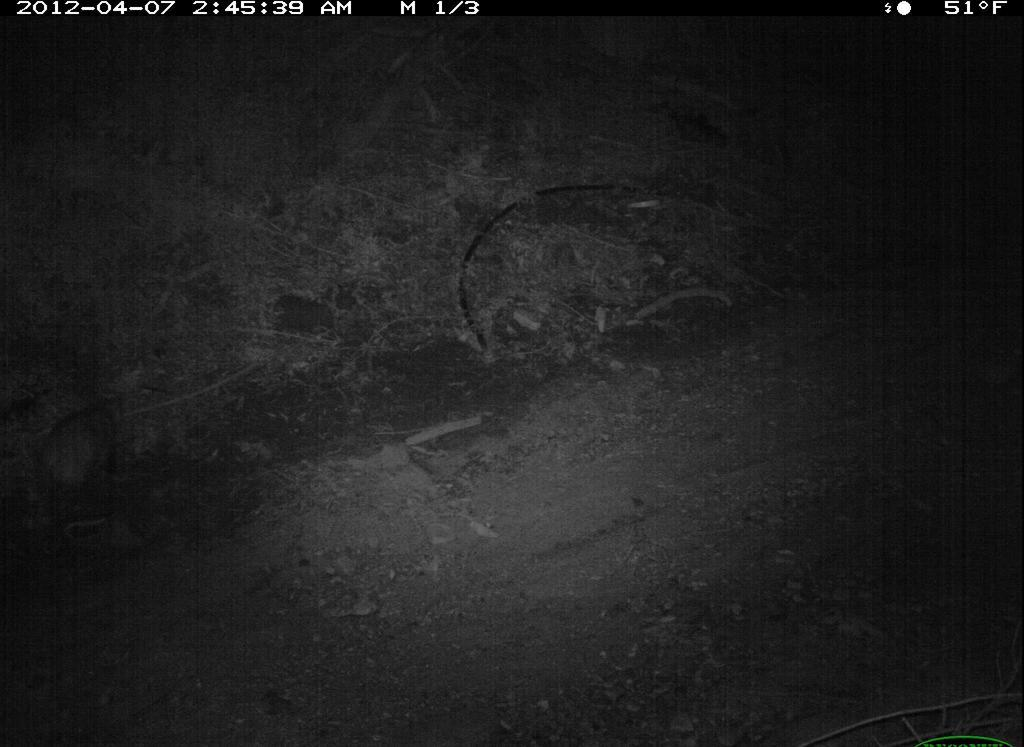opossum: (31, 383, 143, 529)
